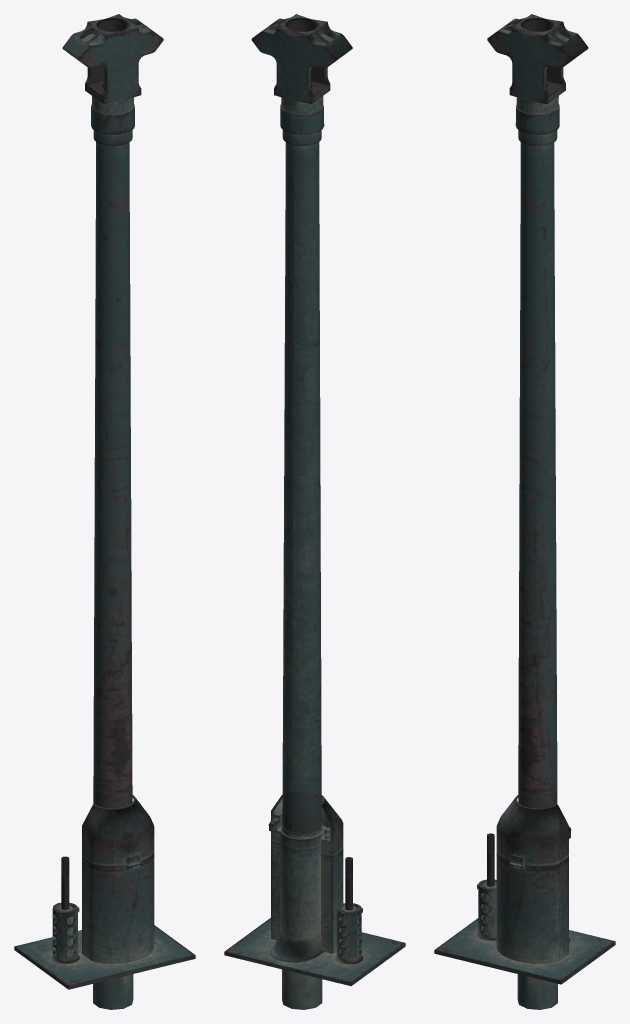
The model's file is Gun_02.glb.
The picture shows the model from 3 angles, left to right: view 1: azimuth 30°, elevation 25°; view 2: azimuth 150°, elevation 25°; view 3: azimuth 330°, elevation 25°; orthographic projection.
Visible parts, largest first — view 1: set_0_group_0; view 2: set_0_group_0; view 3: set_0_group_0.
Part boxes in pixels (x1,y1,x2,y2): set_0_group_0: [14, 14, 195, 1009]; set_0_group_0: [224, 14, 405, 1009]; set_0_group_0: [434, 14, 615, 1009].
Bounding box in the file's own units: 0.541 × 3.98 × 0.4003.
1 material, 1 textured.
